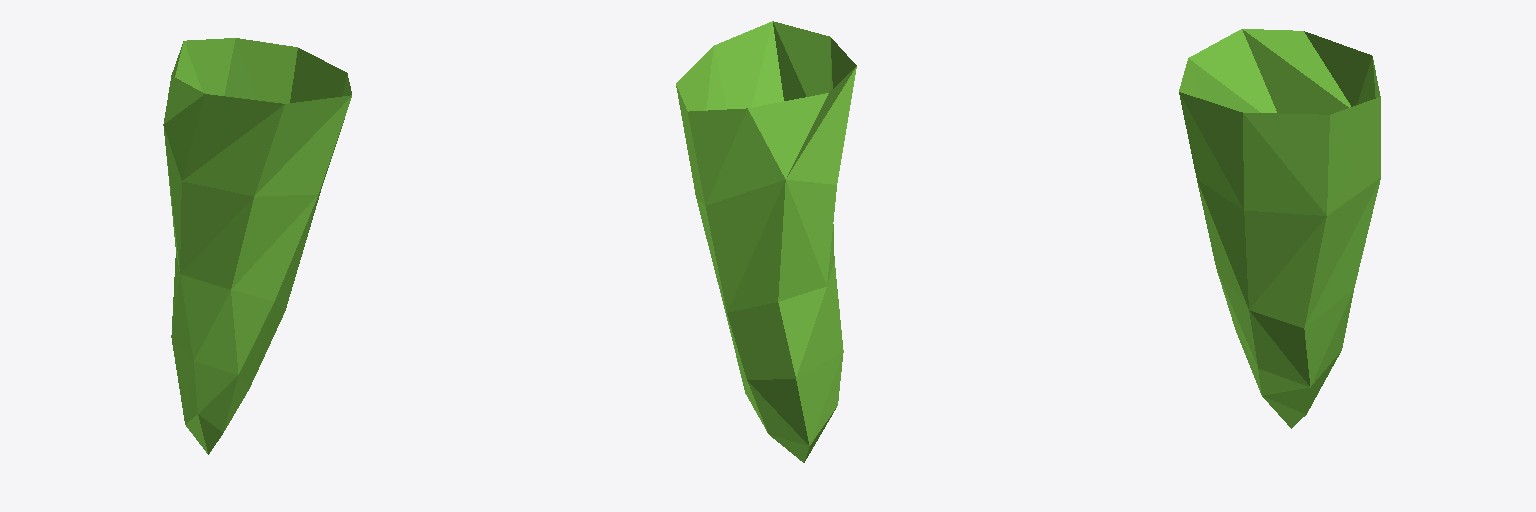
The model's file is Stalagmite_Fragment4.obj.
3 views of the same model, side by side, from view 1: azimuth 30°, elevation 25°; view 2: azimuth 150°, elevation 25°; view 3: azimuth 270°, elevation 25° (orthographic).
Parts seen in each view (by area): view 1: Stalagmite_Fragment4; view 2: Stalagmite_Fragment4; view 3: Stalagmite_Fragment4.
Part boxes in pixels (left/top/right/bottom): Stalagmite_Fragment4: left=163, top=38, right=351, bottom=454; Stalagmite_Fragment4: left=676, top=21, right=856, bottom=462; Stalagmite_Fragment4: left=1179, top=29, right=1380, bottom=428.
Size of the model in its own units: 0.5476 by 1.39 by 0.6592.